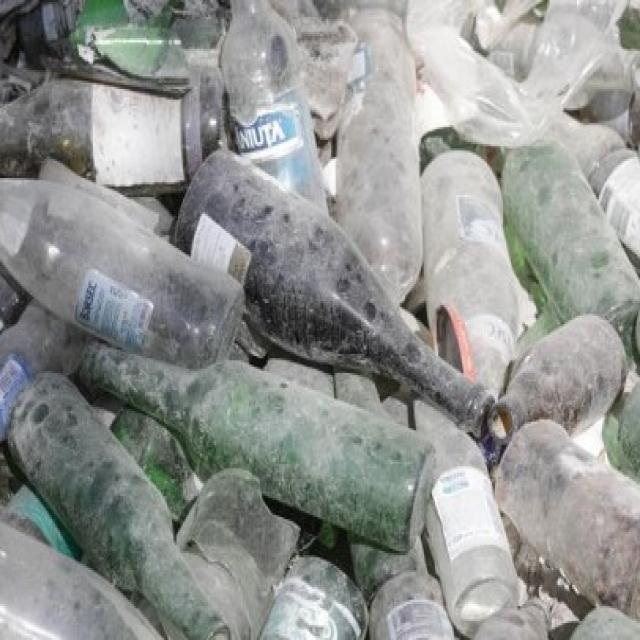electronic: (0, 140, 640, 552)
